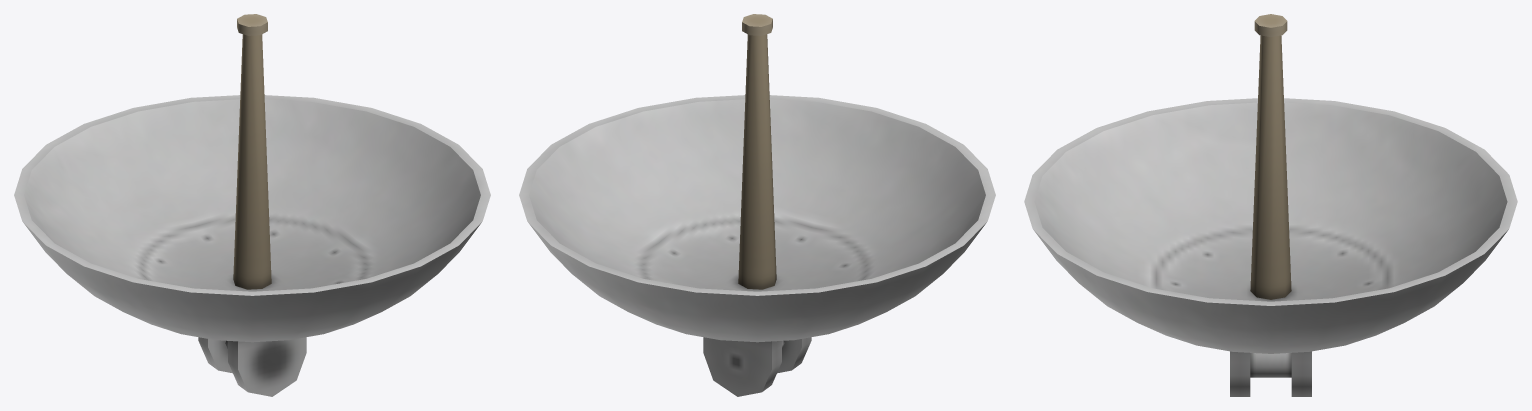
Rendered from Alniyat_Antenna_2_1_1.obj.
3 renders of one model, left to right at view 1: azimuth 30°, elevation 25°; view 2: azimuth 150°, elevation 25°; view 3: azimuth 270°, elevation 25°, orthographic. The views are drawn at different scales.
Parts seen in each view (by area): view 1: Alniyat_Antenna_2_1_1; view 2: Alniyat_Antenna_2_1_1; view 3: Alniyat_Antenna_2_1_1.
Part boxes in pixels (bbox=[...]): Alniyat_Antenna_2_1_1: bbox=[14, 14, 490, 396]; Alniyat_Antenna_2_1_1: bbox=[519, 14, 995, 396]; Alniyat_Antenna_2_1_1: bbox=[1024, 14, 1517, 396].
Size of the model in its own units: 0.3 by 0.2512 by 0.3.
